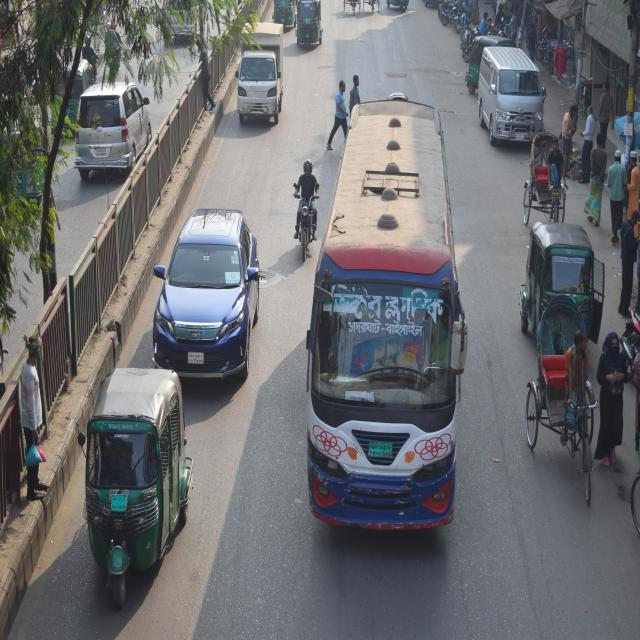bus: (326, 103, 458, 558)
car: (156, 205, 252, 384), (80, 85, 152, 172)
microbus: (478, 46, 538, 150)
motorbike: (282, 196, 318, 278)
pickup-van: (231, 20, 288, 131)
